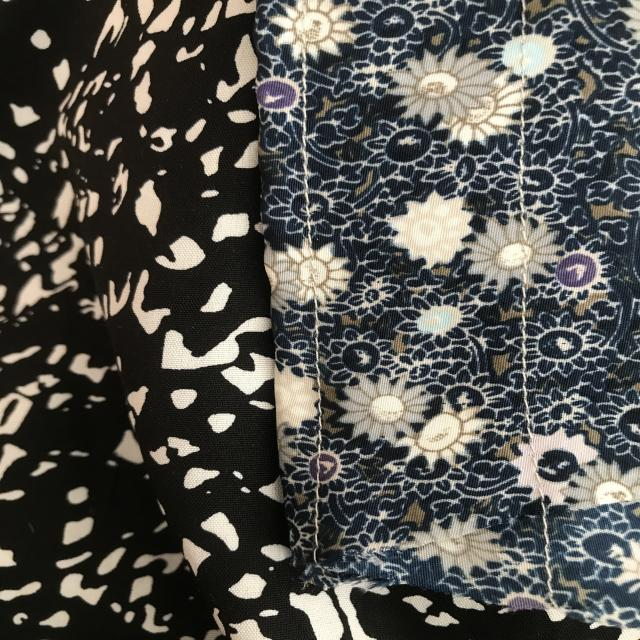good: (286, 116, 337, 232), (507, 294, 544, 428), (309, 309, 328, 446), (512, 119, 536, 197)
